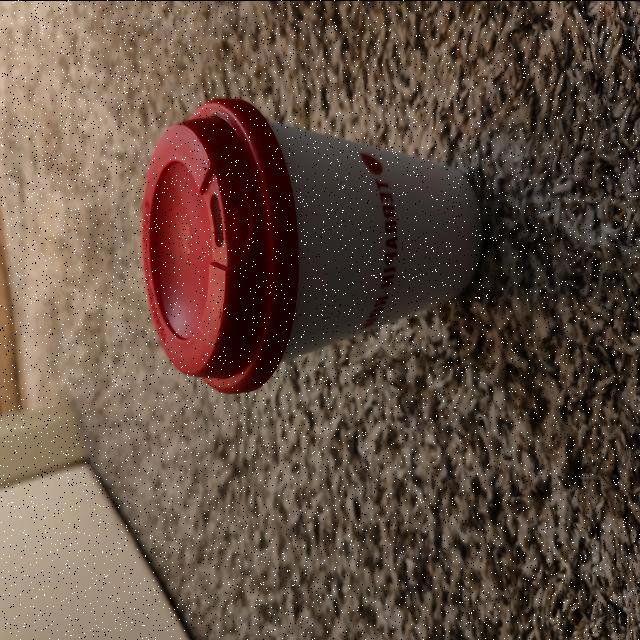mug: (151, 100, 480, 387)
